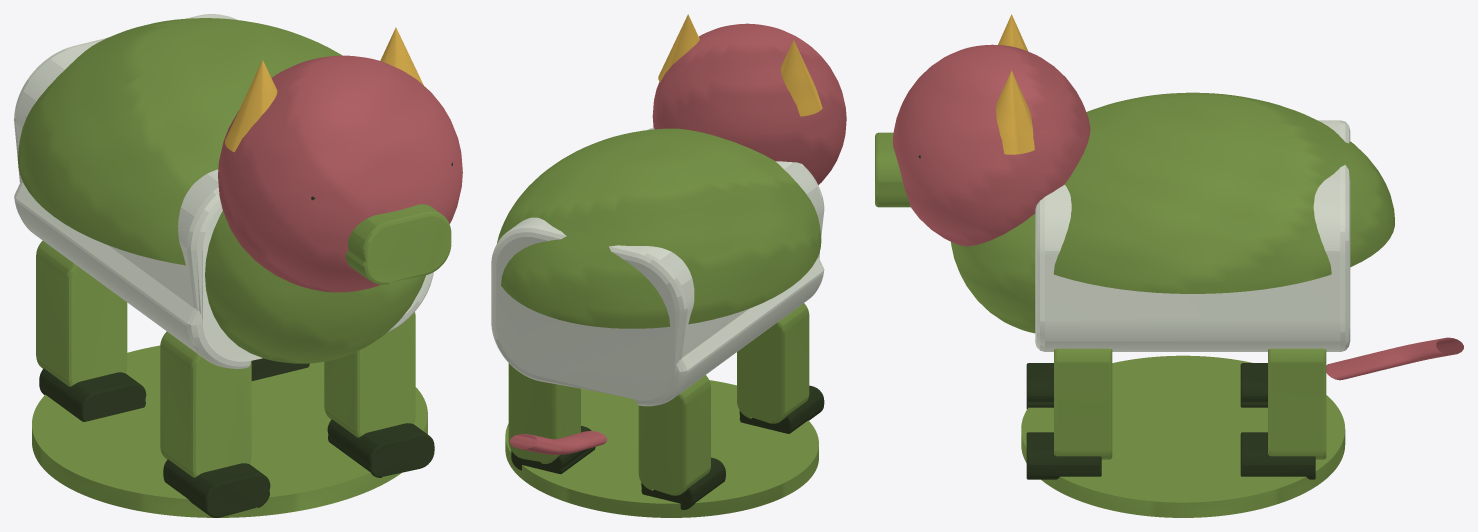
File: 0849_两栖动物图鉴_黄金箭毒蛙.glb
3 views of the same model, side by side, from view 1: azimuth 30°, elevation 25°; view 2: azimuth 150°, elevation 25°; view 3: azimuth 270°, elevation 25° (orthographic). The views are drawn at different scales.
Parts seen in each view (by area): view 1: card_0849; view 2: card_0849; view 3: card_0849.
Part boxes in pixels (<box>): card_0849: <box>14,14,462,517</box>; card_0849: <box>491,14,846,517</box>; card_0849: <box>875,14,1463,517</box>.
Bounding box in the file's own units: 0.7821 × 1 × 1.33.
